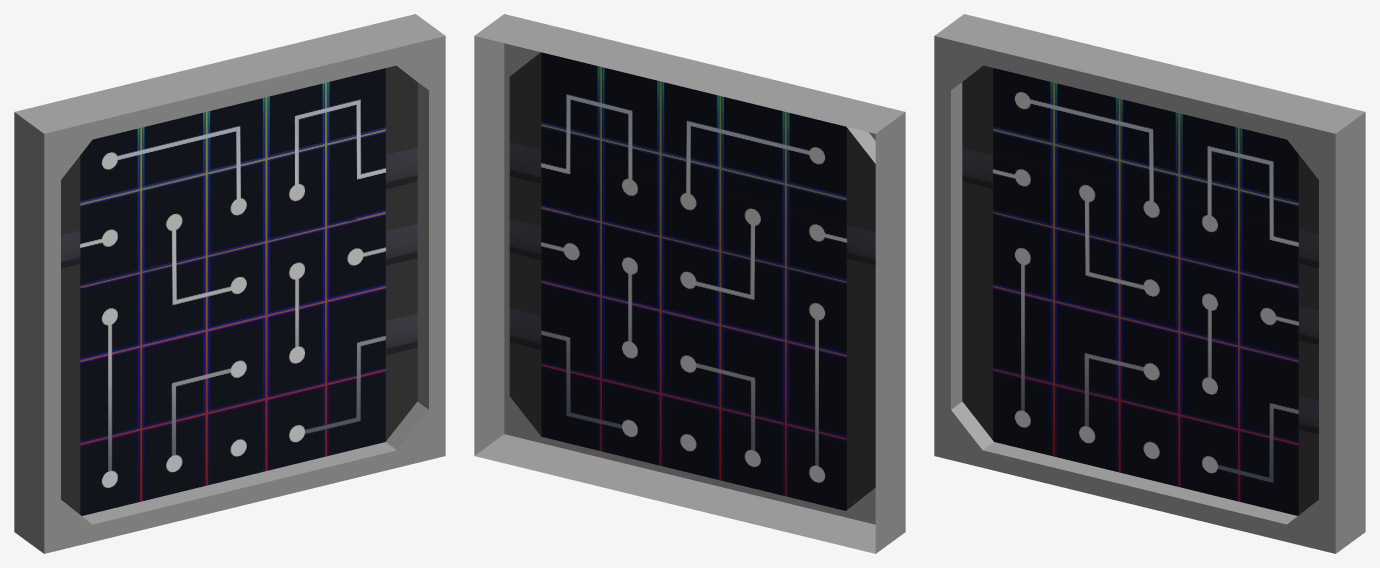
Rendered from BreakerInternals.fbx.
3 renders of one model, left to right at view 1: azimuth 30°, elevation 25°; view 2: azimuth 150°, elevation 25°; view 3: azimuth 330°, elevation 25°, orthographic.
Parts seen in each view (by area): view 1: Puzzle, BoxExternal; view 2: Puzzle, BoxExternal; view 3: Puzzle, BoxExternal.
Part boxes in pixels (<box>): Puzzle: <box>61,65,417,515</box>; BoxExternal: <box>14,14,445,553</box>; Puzzle: <box>509,52,875,510</box>; BoxExternal: <box>474,14,905,553</box>; Puzzle: <box>962,65,1318,515</box>; BoxExternal: <box>934,14,1365,553</box>.
Size of the model in its own units: 216 by 216 by 27.88.
